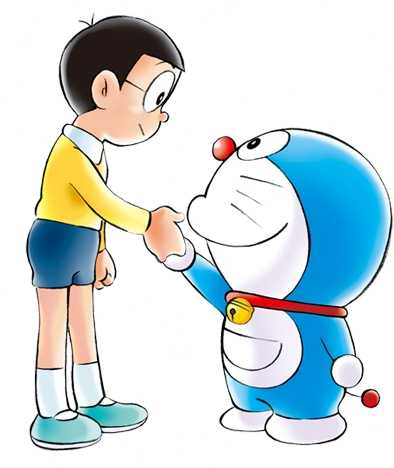Doraemon: (169, 122, 394, 453)
